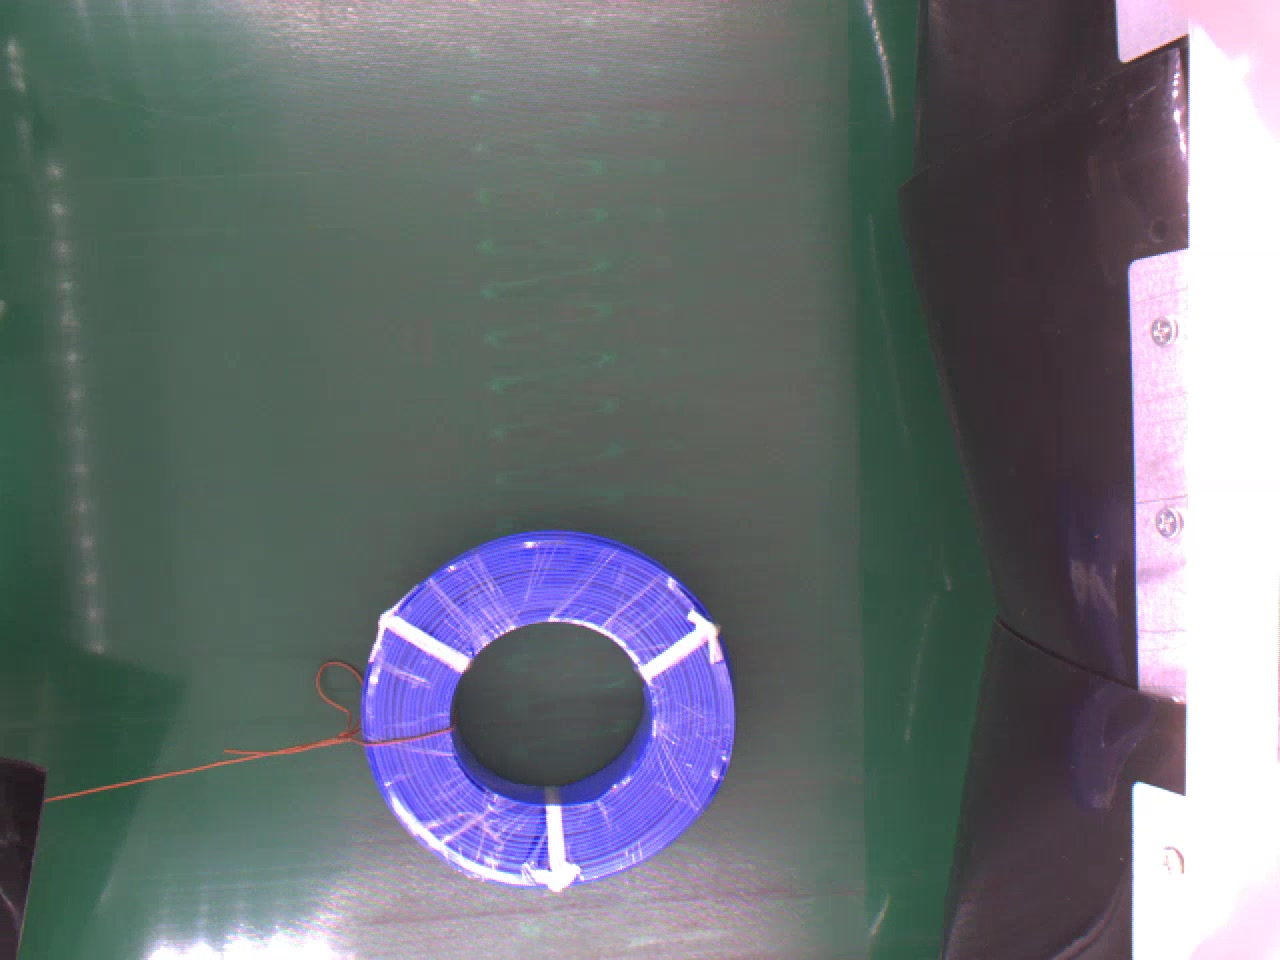blue: (358, 527, 741, 899)
